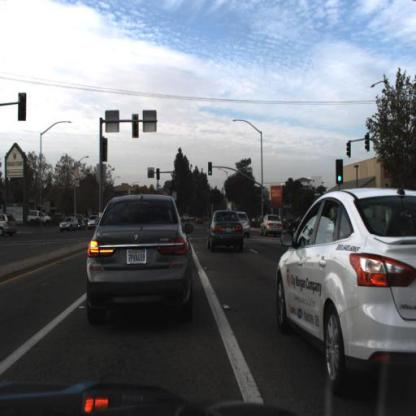car: (277, 187, 415, 385), (85, 198, 191, 311), (207, 212, 248, 265), (258, 206, 283, 238), (236, 213, 252, 242), (2, 212, 19, 238), (237, 213, 253, 239), (59, 216, 80, 230), (219, 209, 237, 224), (194, 212, 206, 228), (88, 214, 99, 231), (180, 209, 190, 226)
trafficLight: (130, 115, 140, 140), (363, 129, 372, 155), (20, 94, 28, 122), (102, 138, 110, 161), (345, 142, 353, 159)
trafficLight-Green: (336, 160, 343, 183), (207, 161, 215, 179), (157, 168, 163, 182), (169, 180, 175, 194), (261, 192, 266, 205), (209, 163, 213, 177)
